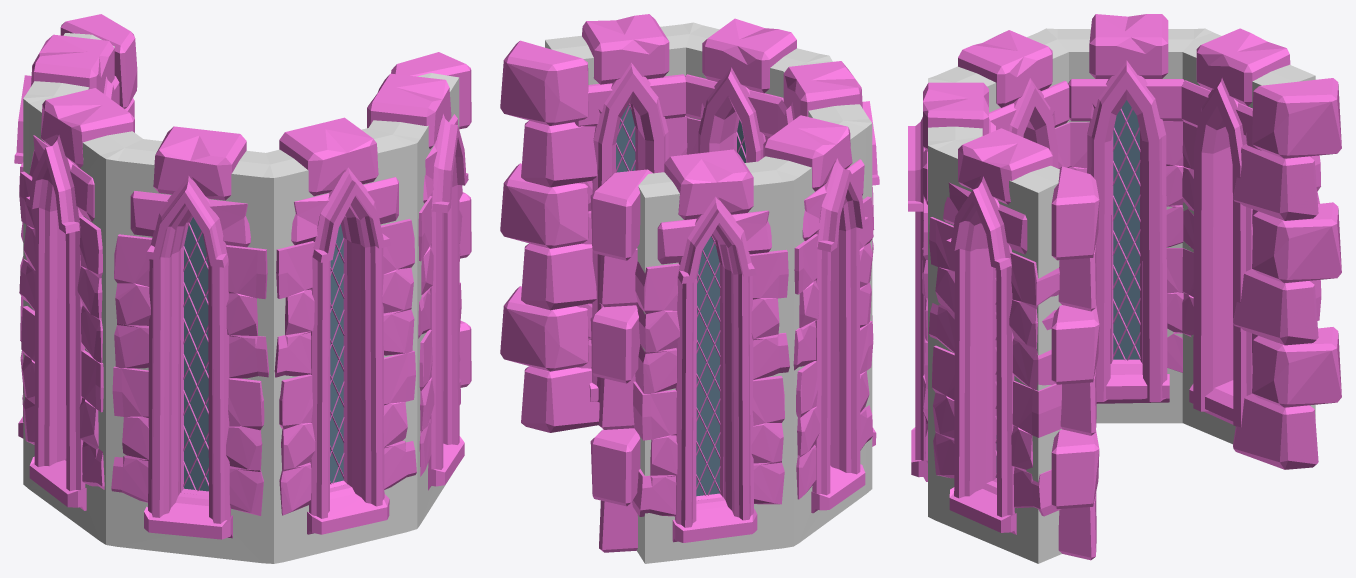
File: SM_Tower_Round_3m_Windows_Nice_Half_Fantasy.fbx
The picture shows the model from 3 angles, left to right: view 1: azimuth 30°, elevation 25°; view 2: azimuth 150°, elevation 25°; view 3: azimuth 270°, elevation 25°; orthographic projection. The views are drawn at different scales.
Parts seen in each view (by area): view 1: SM_Tower_Round_3m_Windows_Nice_Half_Fantasy; view 2: SM_Tower_Round_3m_Windows_Nice_Half_Fantasy; view 3: SM_Tower_Round_3m_Windows_Nice_Half_Fantasy.
Part boxes in pixels (box(x1,y1,x2,y2)): SM_Tower_Round_3m_Windows_Nice_Half_Fantasy: box(14, 14, 471, 563); SM_Tower_Round_3m_Windows_Nice_Half_Fantasy: box(500, 14, 879, 563); SM_Tower_Round_3m_Windows_Nice_Half_Fantasy: box(908, 14, 1341, 563).
Bounding box in the file's own units: 3.17 × 3.12 × 3.18.
